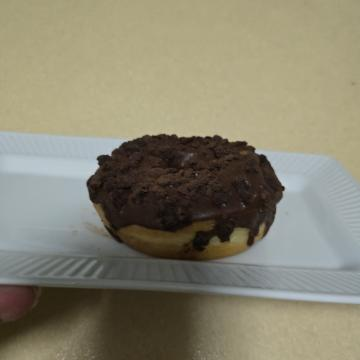doughnut: (107, 59, 271, 286)
